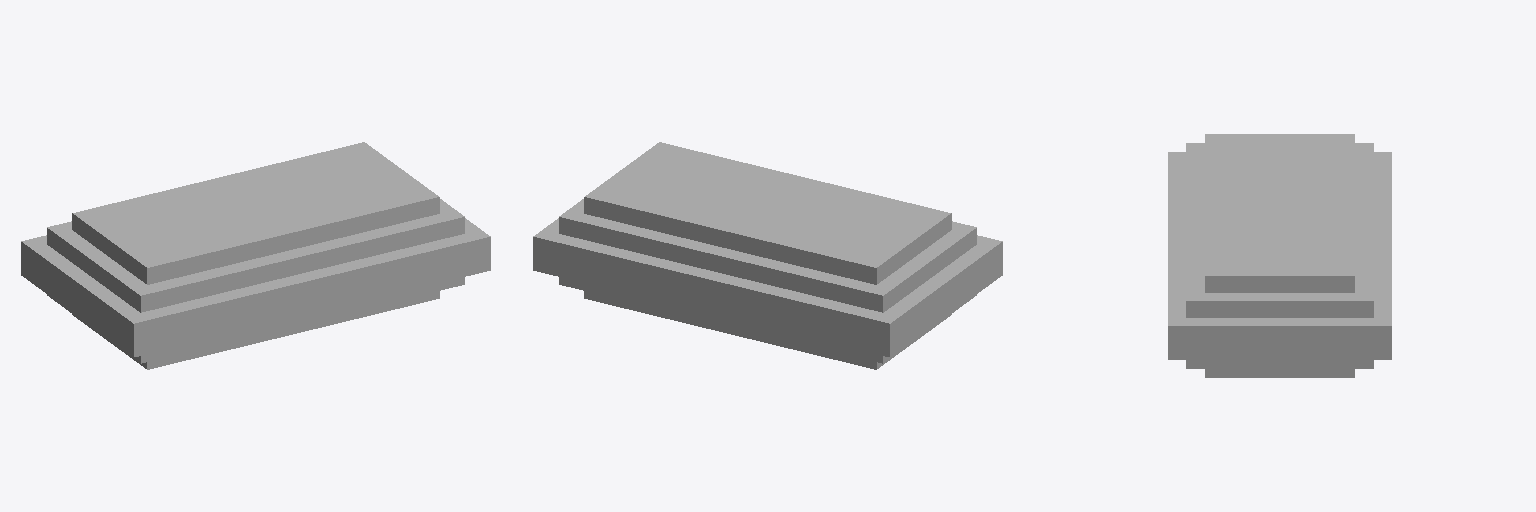
3 renders of one model, left to right at view 1: azimuth 30°, elevation 25°; view 2: azimuth 150°, elevation 25°; view 3: azimuth 270°, elevation 25°, orthographic.
Parts seen in each view (by area): view 1: object 1; view 2: object 1; view 3: object 1.
Boxes of the visible parts, <box> form: object 1: <box>21,142,490,369</box>; object 1: <box>533,142,1002,369</box>; object 1: <box>1168,134,1391,377</box>.
Bounding box in the file's own units: 2.2 × 0.6 × 1.2.
1 materials, 1 textured.